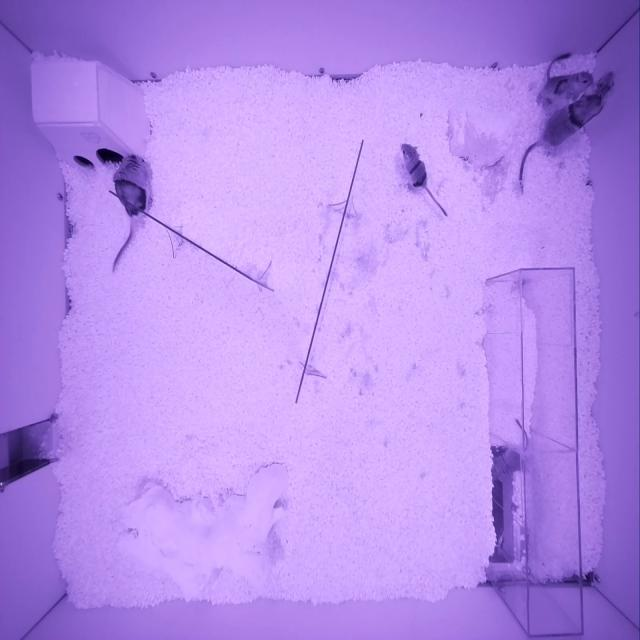adult_back: (112, 154, 153, 220)
adult_front: (540, 71, 617, 148)
pup_fluffy: (491, 447, 525, 481)
pup_h_stripe: (399, 142, 427, 189)
pup_spotted: (536, 71, 593, 114)
